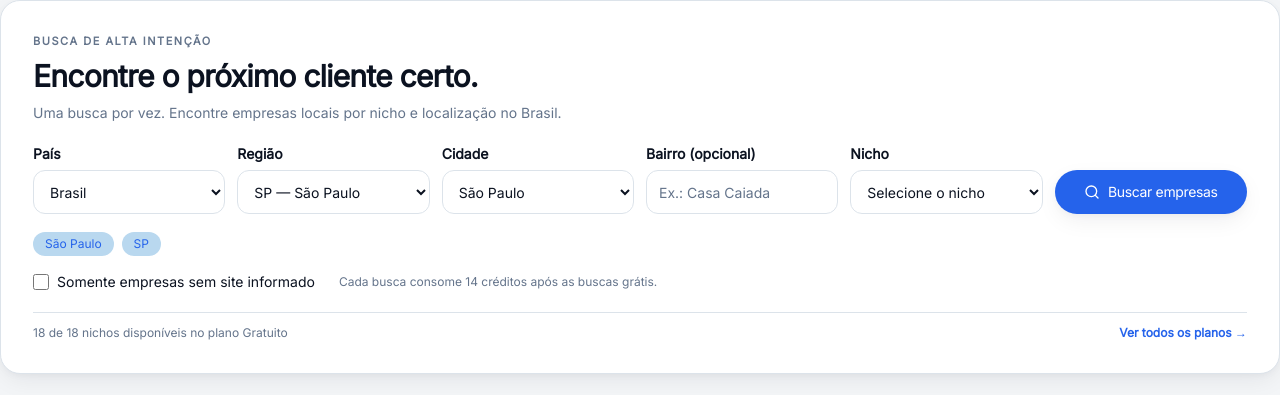
Test: Prospecting from client map › prefills the selected client region and clears dependent values after a country change
Expected: the dropdown labelled "Região" shows "SP — São Paulo", [237, 170, 430, 214]
Expected: the dropdown labelled "Cidade" shows "São Paulo", [442, 170, 634, 214]
Select "PT" in the dropdown labelled "País" at [129, 192], box [33, 170, 225, 214]
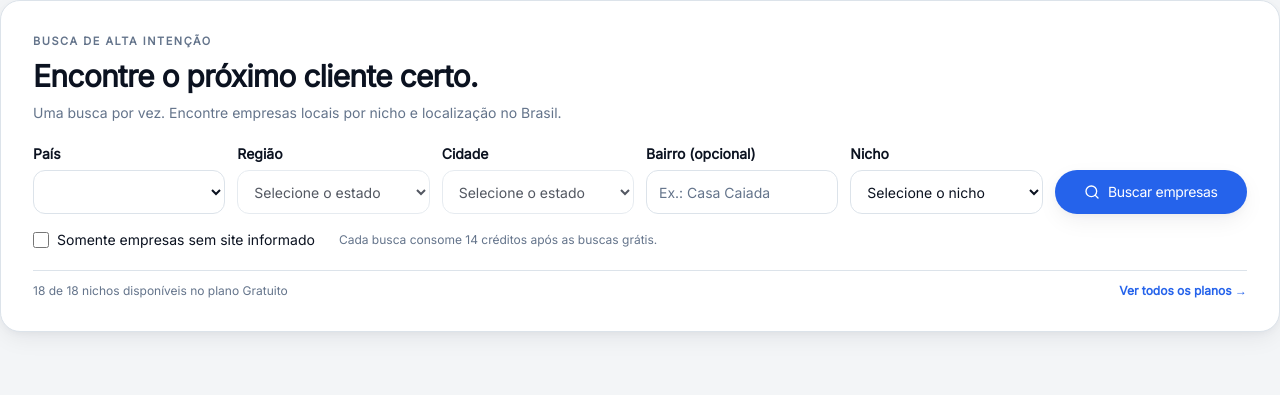
Now the dropdown labelled "Região" shows "Selecione o estado", box [237, 170, 430, 214]
Now the dropdown labelled "Cidade" shows "Selecione o estado", box [442, 170, 634, 214]
